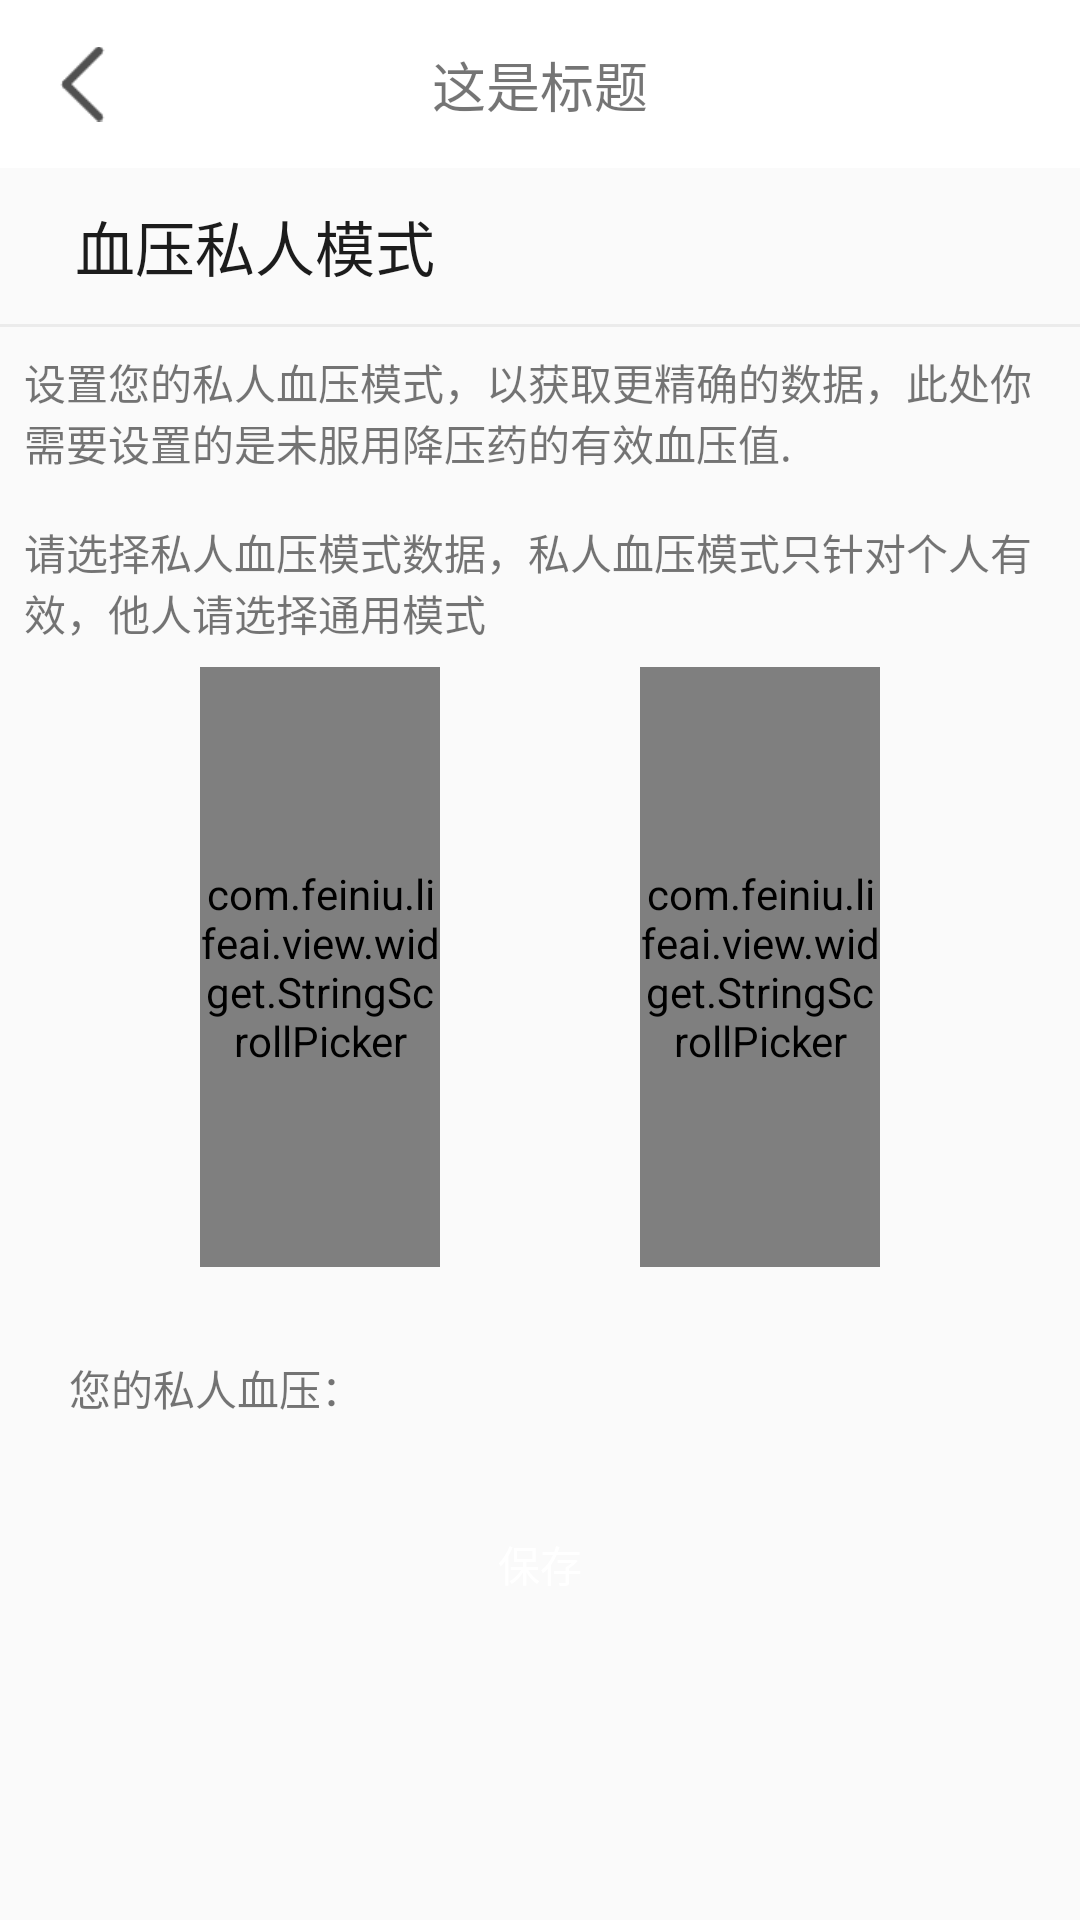

Icon bounding boxes for this 1080w x 1920h phone screenshot, format [x1, y1, x2, y2]:
comm back: [61, 47, 104, 122]
